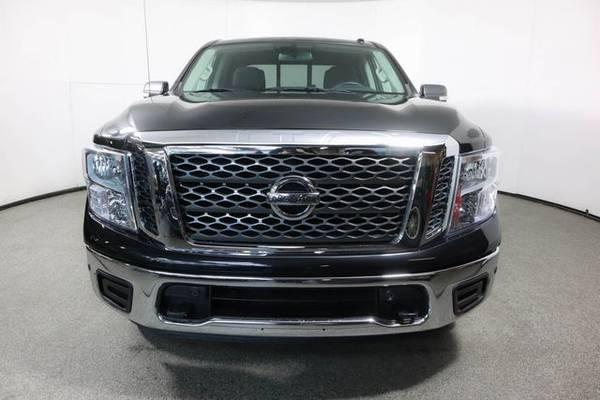Front_Bumper: (84, 207, 501, 334)
Front_Windshield: (173, 35, 419, 91)
Grille: (130, 143, 461, 257)
Hood: (97, 88, 494, 152)
Left_Headlight: (446, 145, 499, 235)
Left_Mirror: (422, 85, 450, 100)
Right_Headlight: (82, 143, 137, 235)
Right_Mirror: (140, 82, 165, 93)
